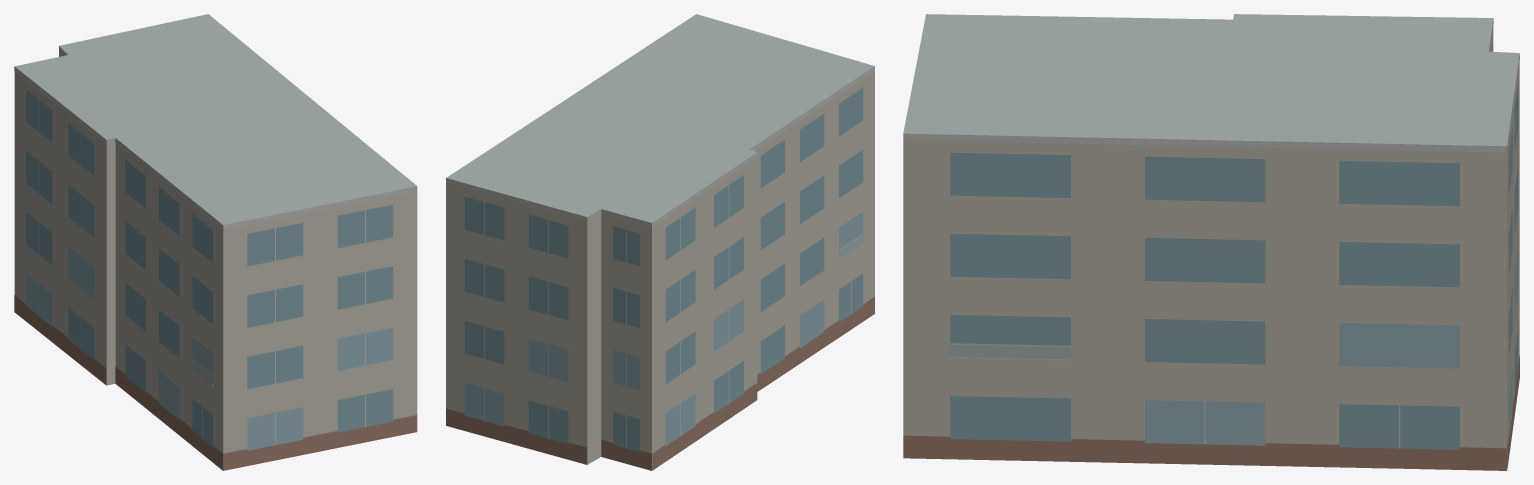
File: survey-upis-32868739.glb
3 views of the same model, side by side, from view 1: azimuth 30°, elevation 25°; view 2: azimuth 150°, elevation 25°; view 3: azimuth 270°, elevation 25° (orthographic). The views are drawn at different scales.
Visible parts, largest first — view 1: survey-upis-32868739.tmp; view 2: survey-upis-32868739.tmp; view 3: survey-upis-32868739.tmp.
Part boxes in pixels (x1,y1,x2,y2): survey-upis-32868739.tmp: (14, 14, 417, 470); survey-upis-32868739.tmp: (446, 14, 874, 470); survey-upis-32868739.tmp: (903, 14, 1519, 470).
Size of the model in its own units: 10.67 by 12.2 by 21.01.
